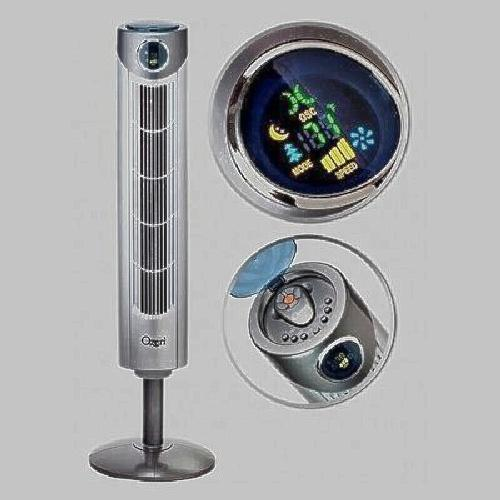fan: (94, 26, 216, 476)
